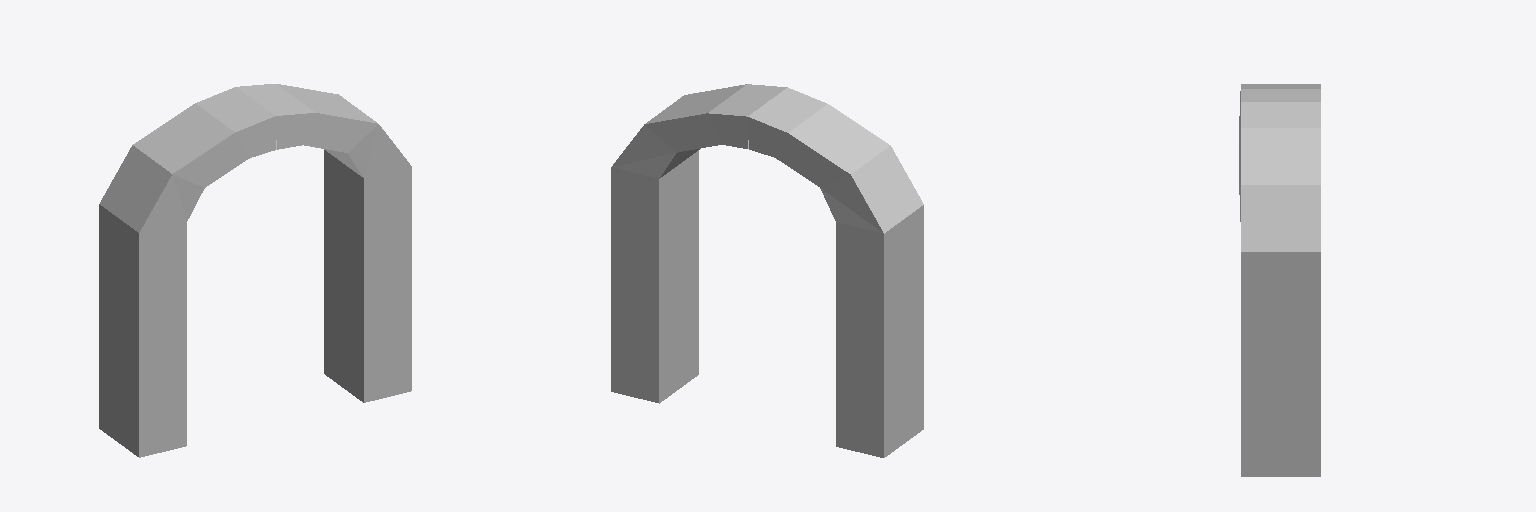
The model's file is sticky-paddle-bonus.obj.
3 renders of one model, left to right at view 1: azimuth 30°, elevation 25°; view 2: azimuth 150°, elevation 25°; view 3: azimuth 270°, elevation 25°, orthographic.
Bounding box in the file's own units: 1.28 × 1.39 × 0.3317.